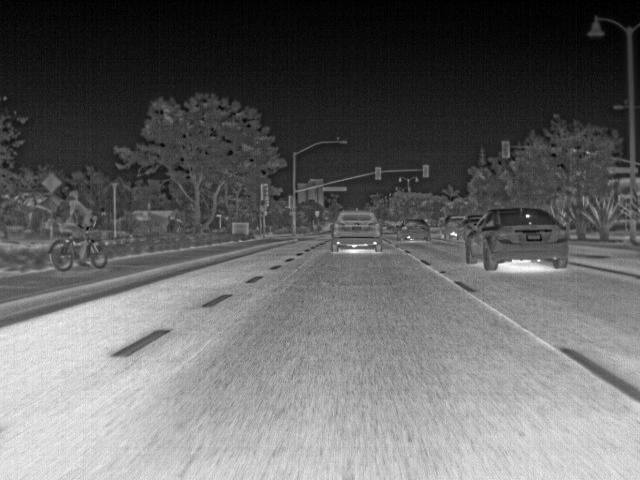car: (465, 206, 570, 270), (331, 210, 384, 253), (396, 217, 430, 241), (457, 214, 486, 242), (441, 213, 464, 240), (383, 220, 397, 234), (429, 219, 439, 229)
person: (53, 188, 94, 237)
